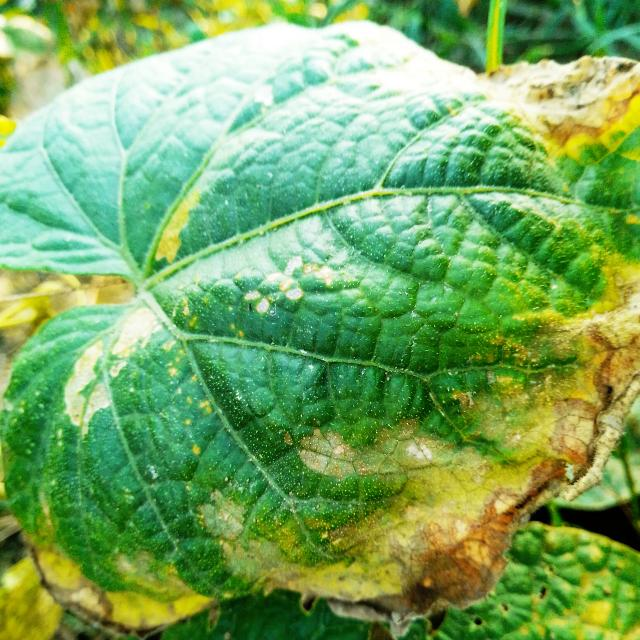Gummy-Stem-Blight: (202, 267, 640, 640), (445, 56, 639, 156), (28, 536, 177, 639)
